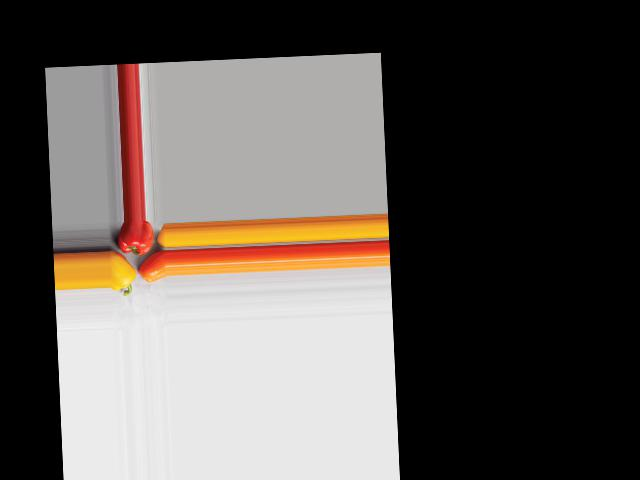bell_pepper: (115, 220, 154, 257)
